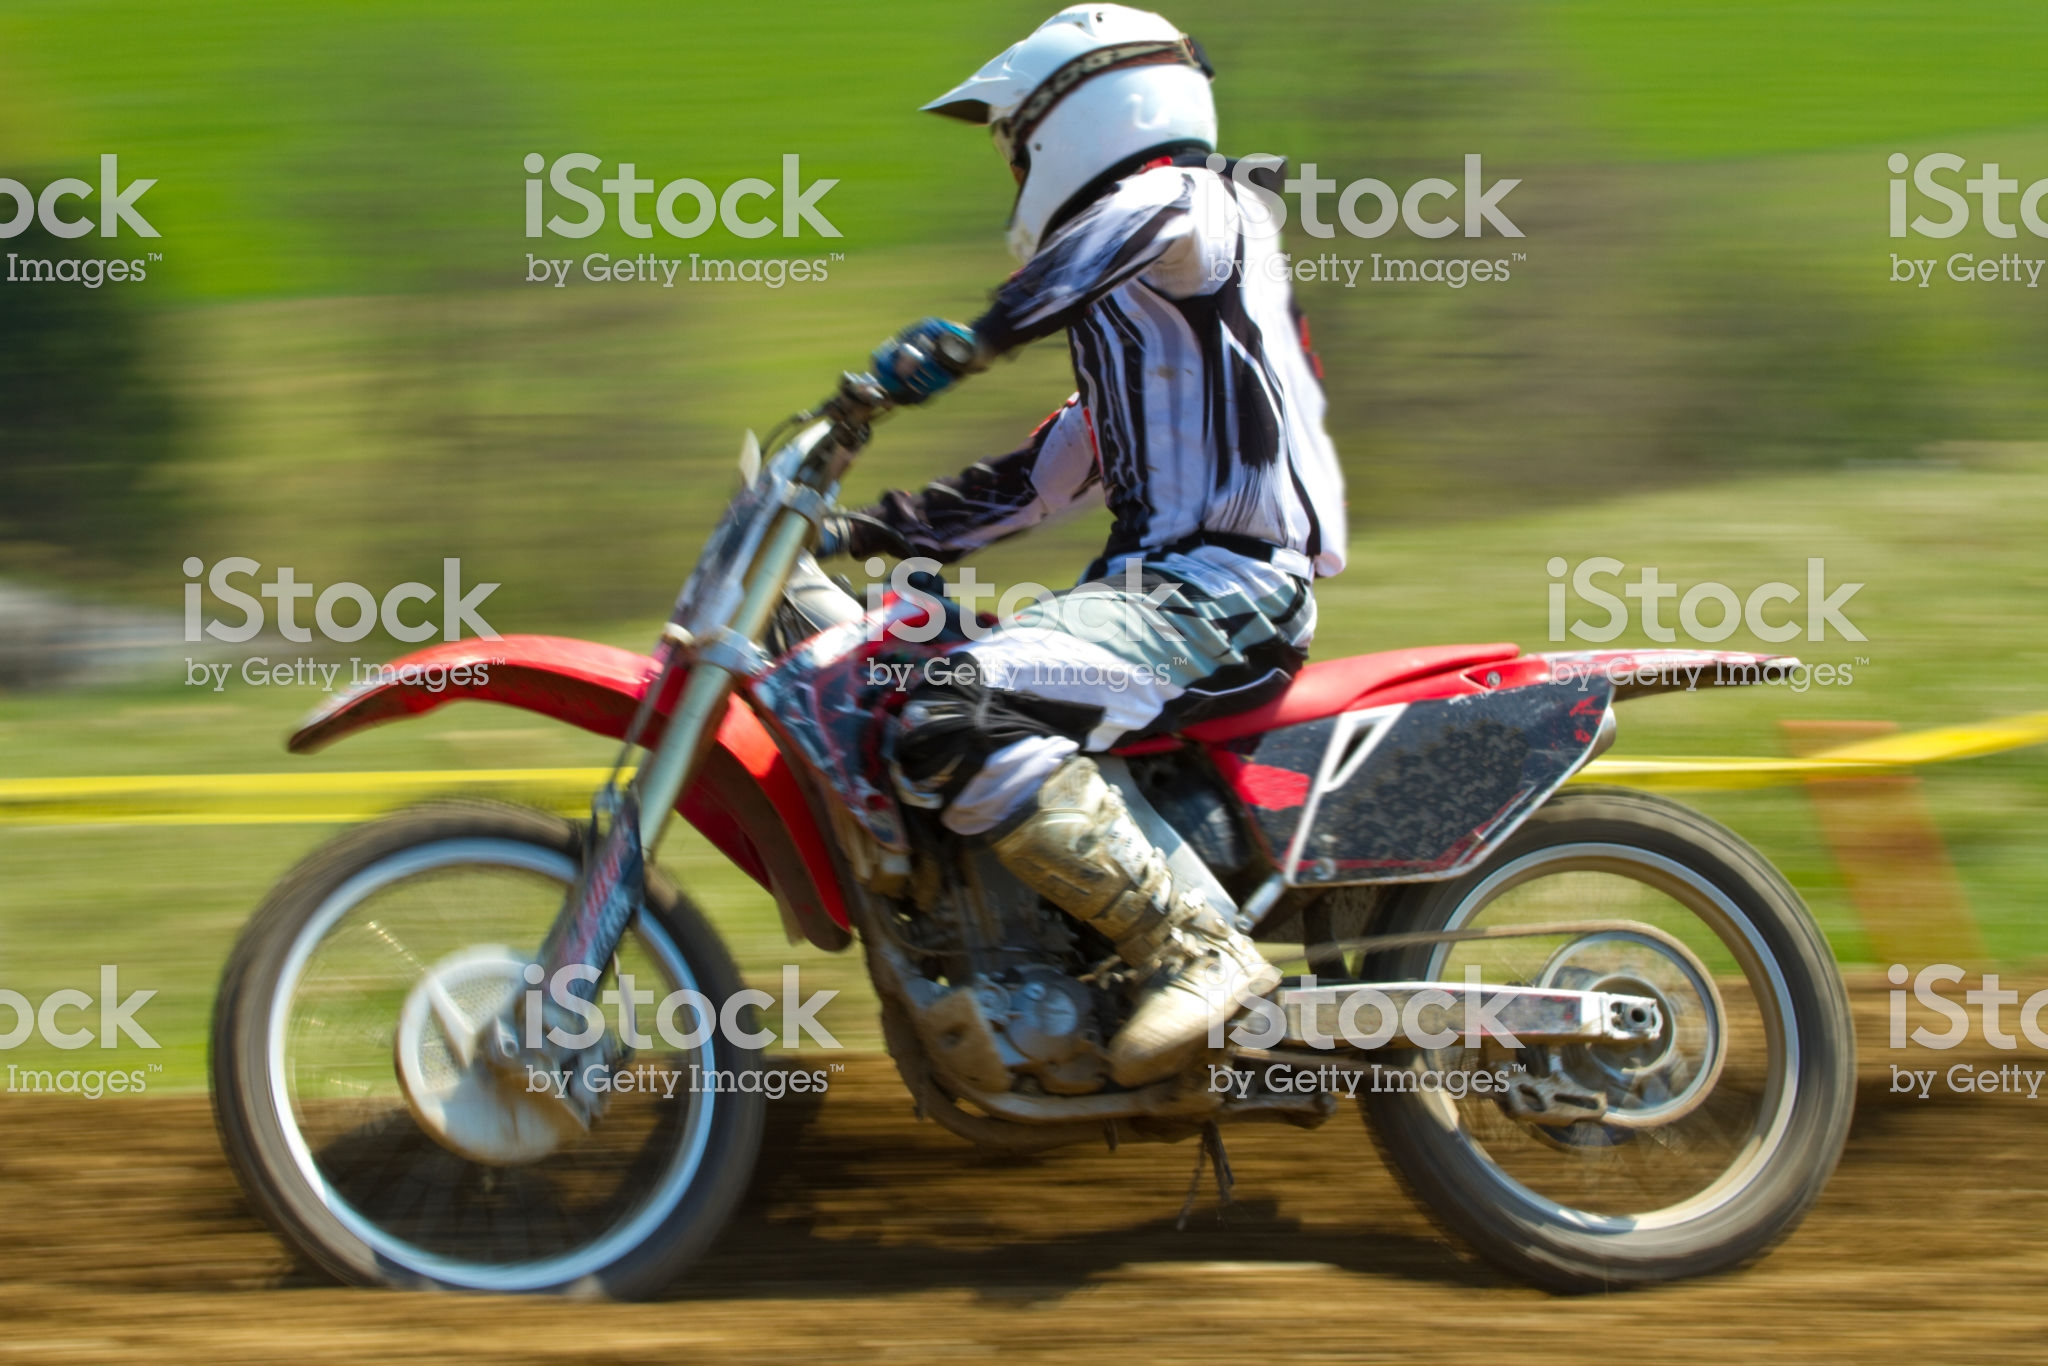helmet: (948, 24, 1272, 252)
